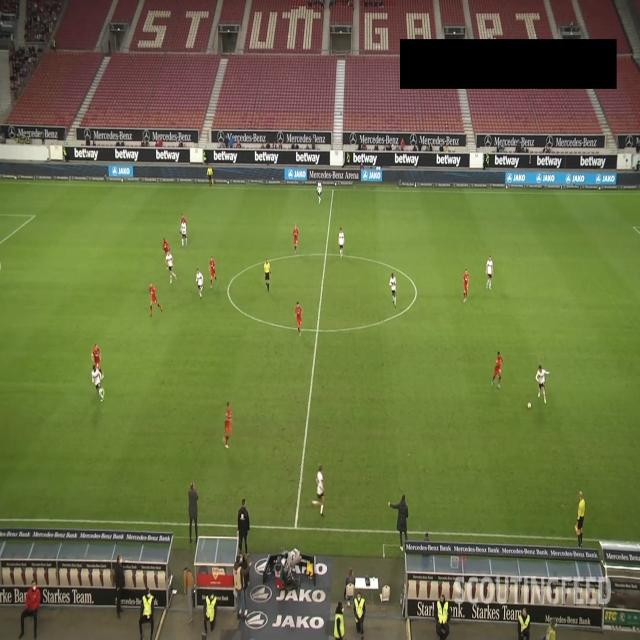ball: (527, 401, 532, 409)
